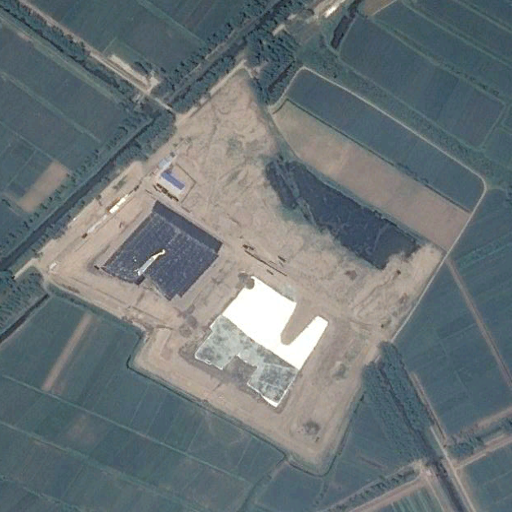lf: (106, 205, 223, 298)
